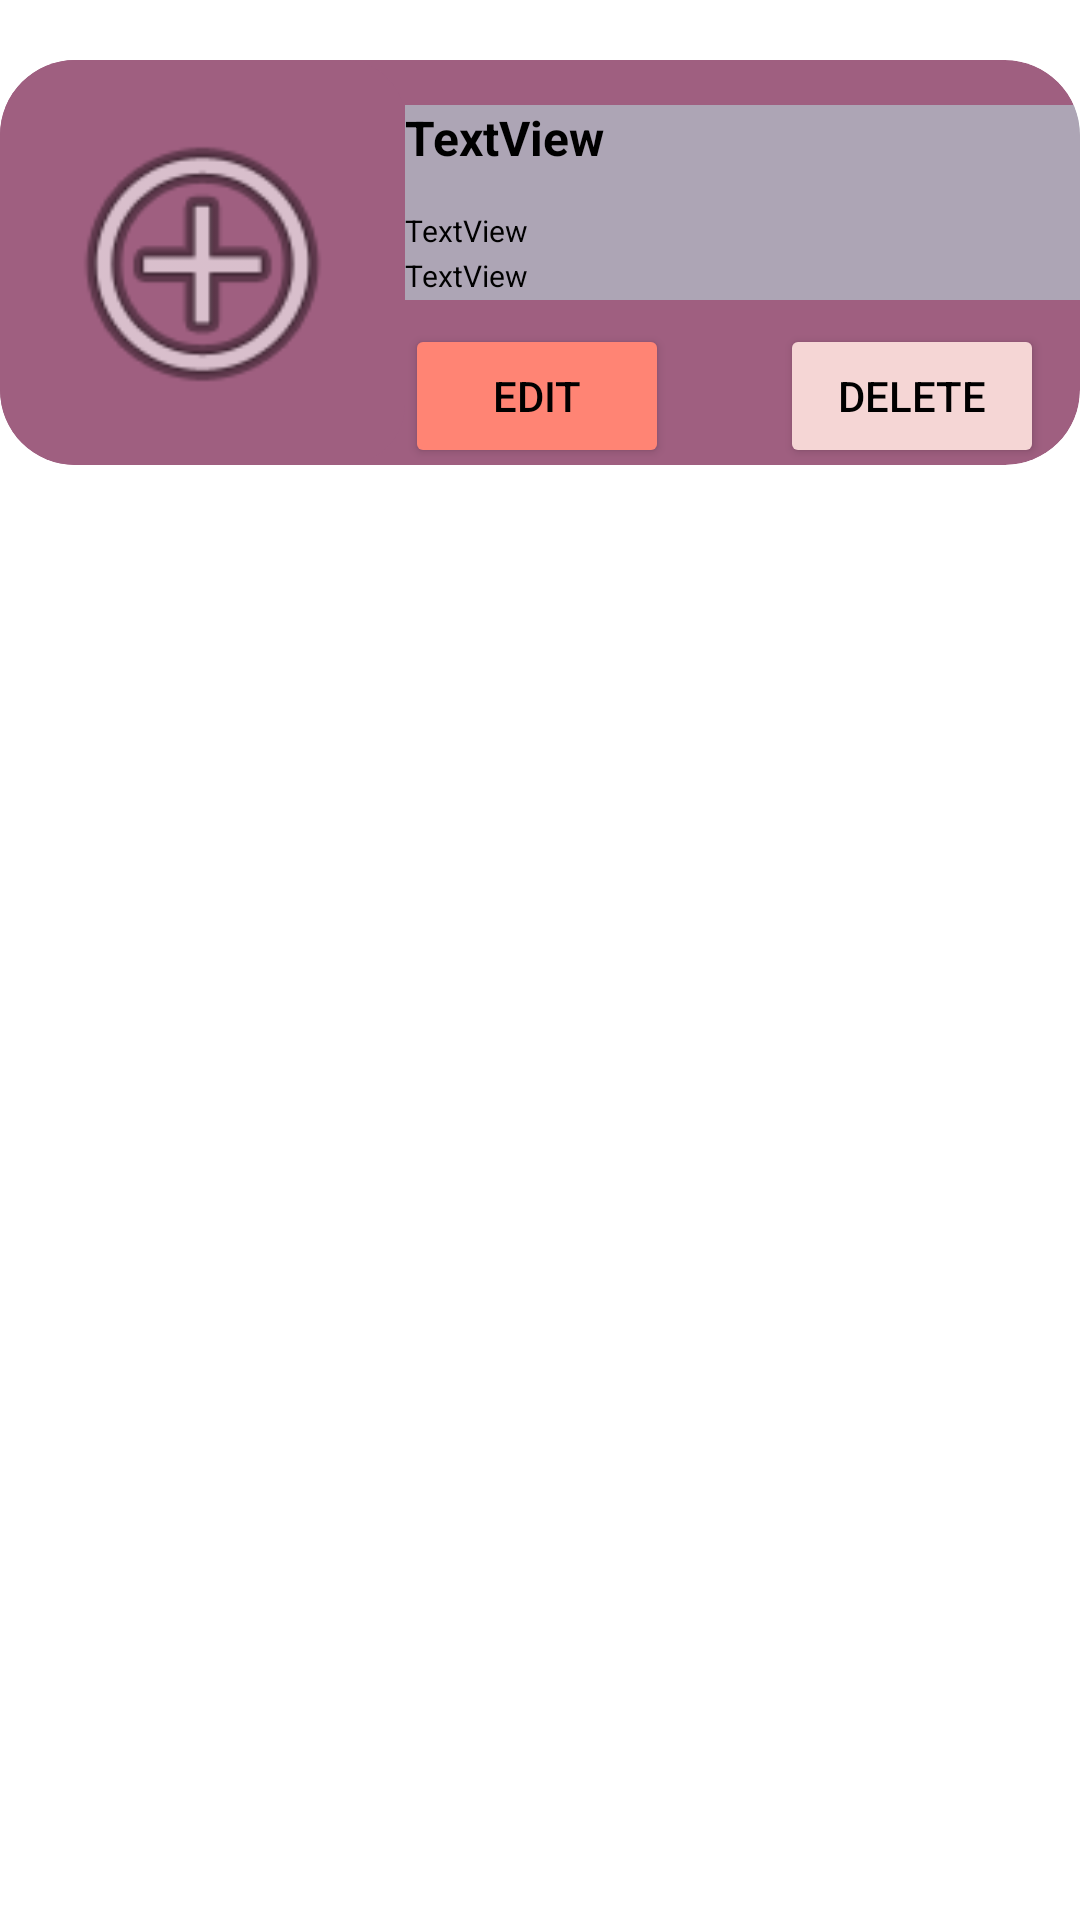

Screen size 1080*1920. Icon name, then its center in pixels as point (x, y):
add: point (202, 264)
